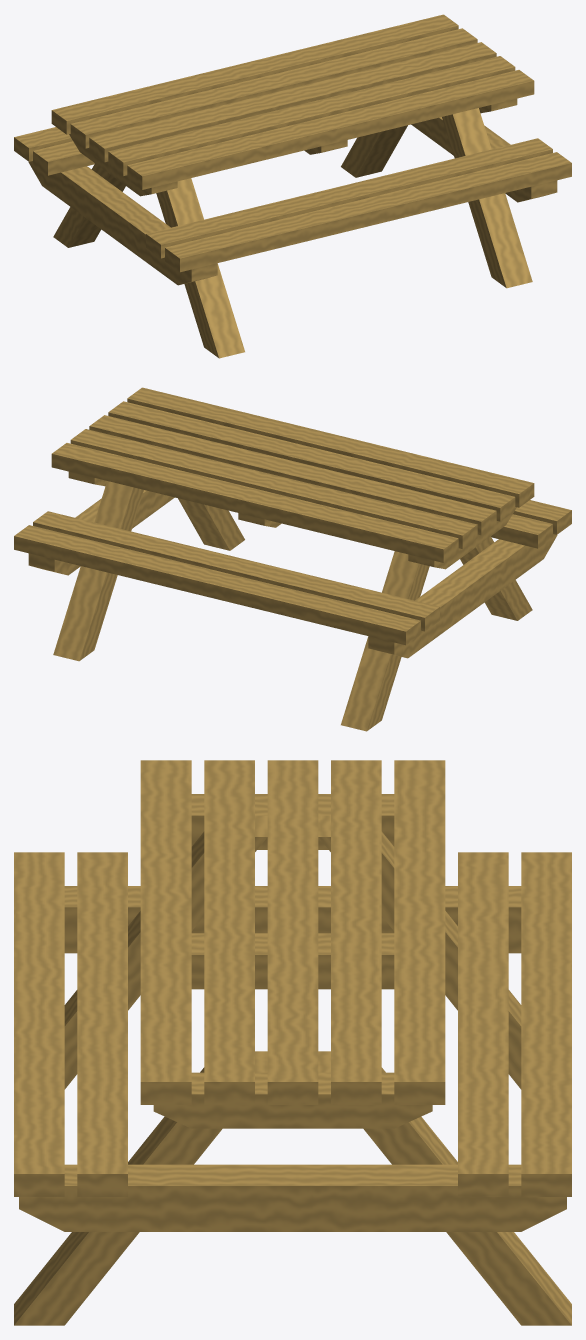
File: 1788372073366_taula_de_picnic.glb
The picture shows the model from 3 angles, top to bottom: view 1: azimuth 30°, elevation 25°; view 2: azimuth 150°, elevation 25°; view 3: azimuth 270°, elevation 25°; orthographic projection. The views are drawn at different scales.
Visible parts, largest first — view 1: taula_picnic_0; view 2: taula_picnic_0; view 3: taula_picnic_0.
Boxes of the visible parts, bbox=[...] form: taula_picnic_0: bbox=[14, 14, 571, 358]; taula_picnic_0: bbox=[14, 387, 571, 731]; taula_picnic_0: bbox=[14, 760, 571, 1325].
Bounding box in the file's own units: 3 × 1.2 × 2.2.
1 material, 1 textured.
